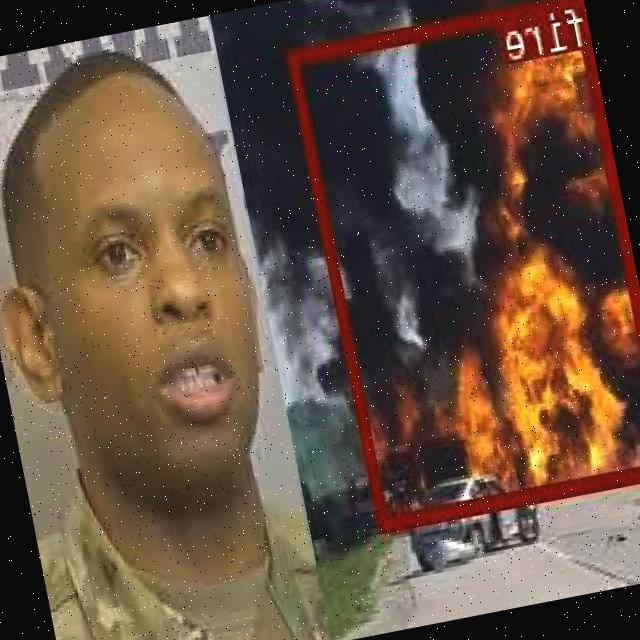fire: (287, 0, 640, 530)
